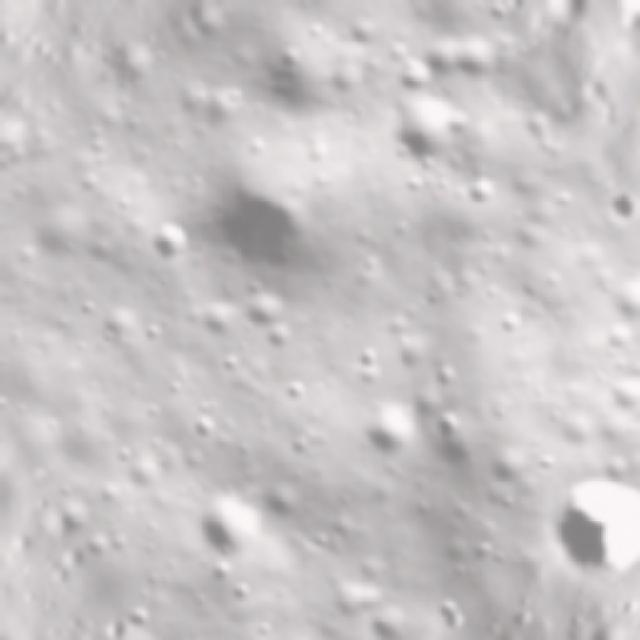crater: (195, 157, 336, 300), (527, 454, 640, 554), (184, 474, 290, 580), (377, 78, 471, 168), (347, 389, 430, 469), (137, 211, 200, 277), (446, 167, 508, 221), (252, 308, 302, 359), (492, 298, 536, 344), (0, 256, 22, 344), (55, 488, 96, 535), (594, 189, 634, 236), (182, 403, 224, 443), (66, 287, 106, 325), (426, 354, 466, 392), (270, 36, 307, 73), (350, 340, 384, 375), (207, 344, 242, 378), (159, 370, 190, 401), (113, 437, 141, 468), (280, 374, 308, 404), (0, 387, 14, 410)
